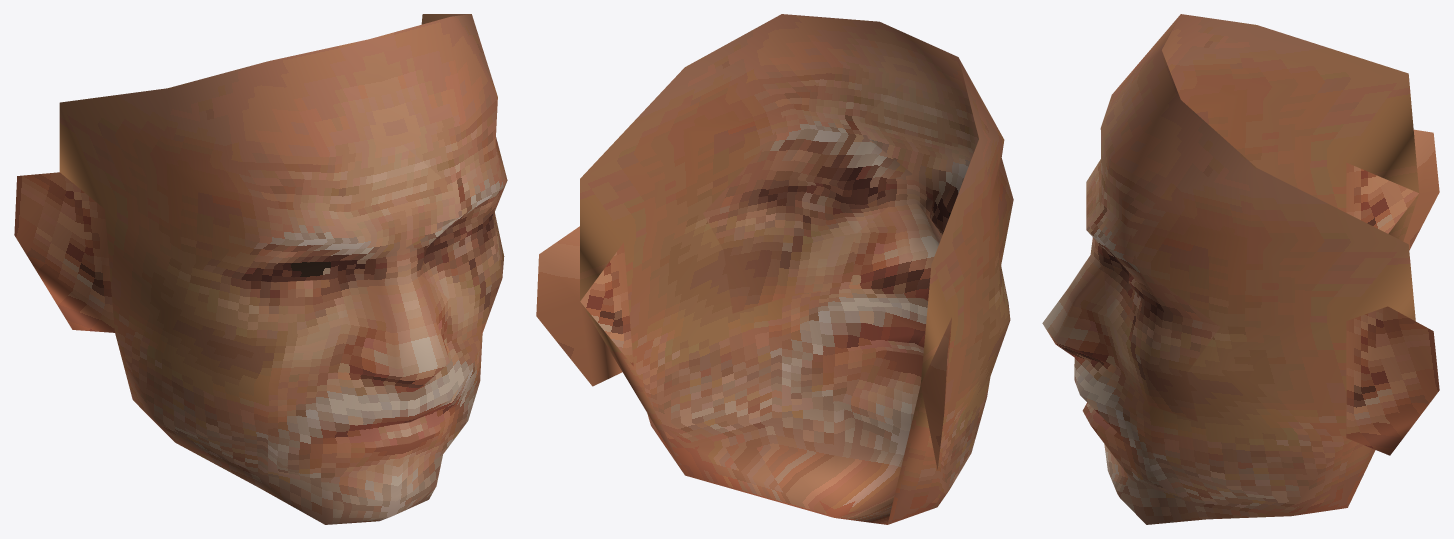
3 views of the same model, side by side, from view 1: azimuth 30°, elevation 25°; view 2: azimuth 150°, elevation 25°; view 3: azimuth 270°, elevation 25° (orthographic). The views are drawn at different scales.
Bounding box in the file's own units: 17.18 × 18.61 × 14.54.
1 material, 1 textured.
